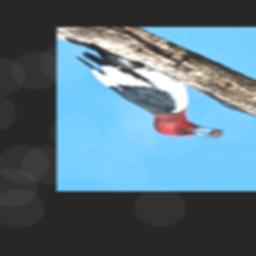Woodpecker: (73, 49, 227, 141)
